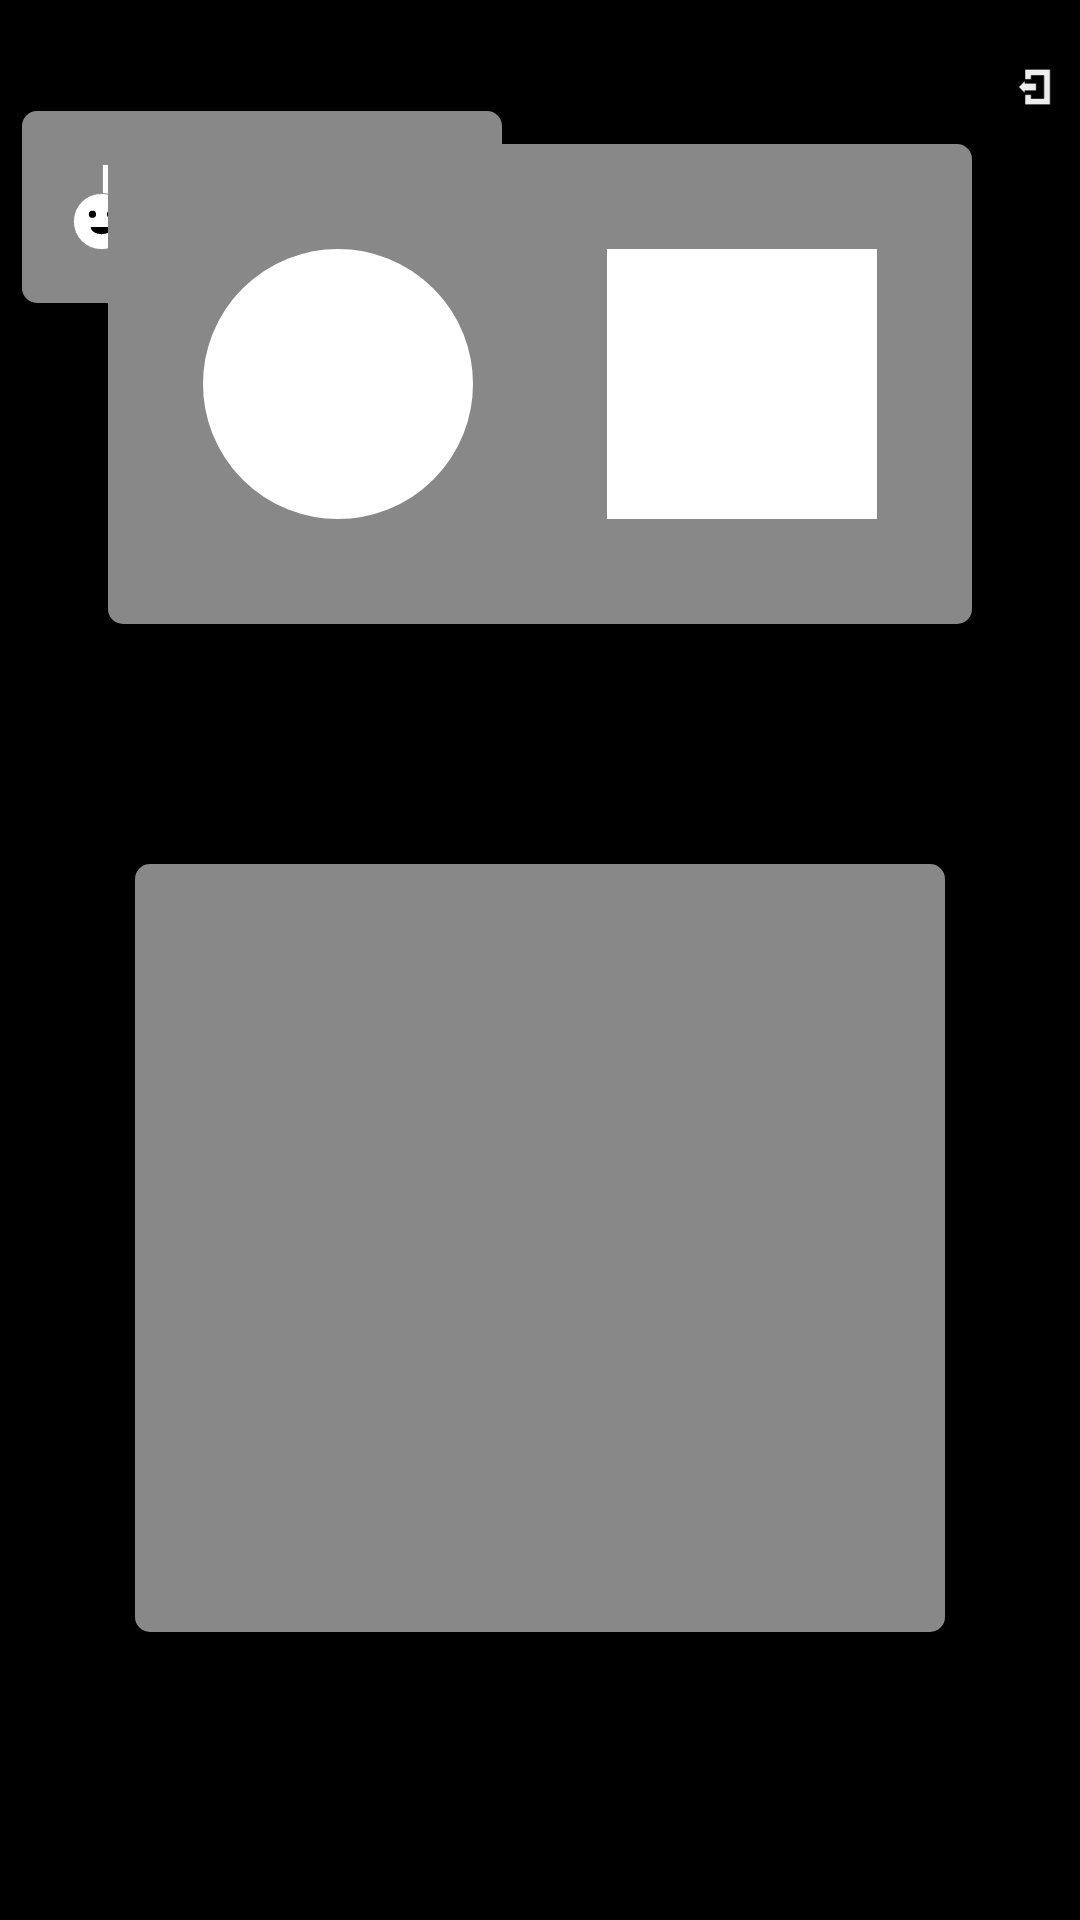

Icons on this 1080x1920 Android screen, each with the point to tap as [x,y]:
ui back: [1035,87]
